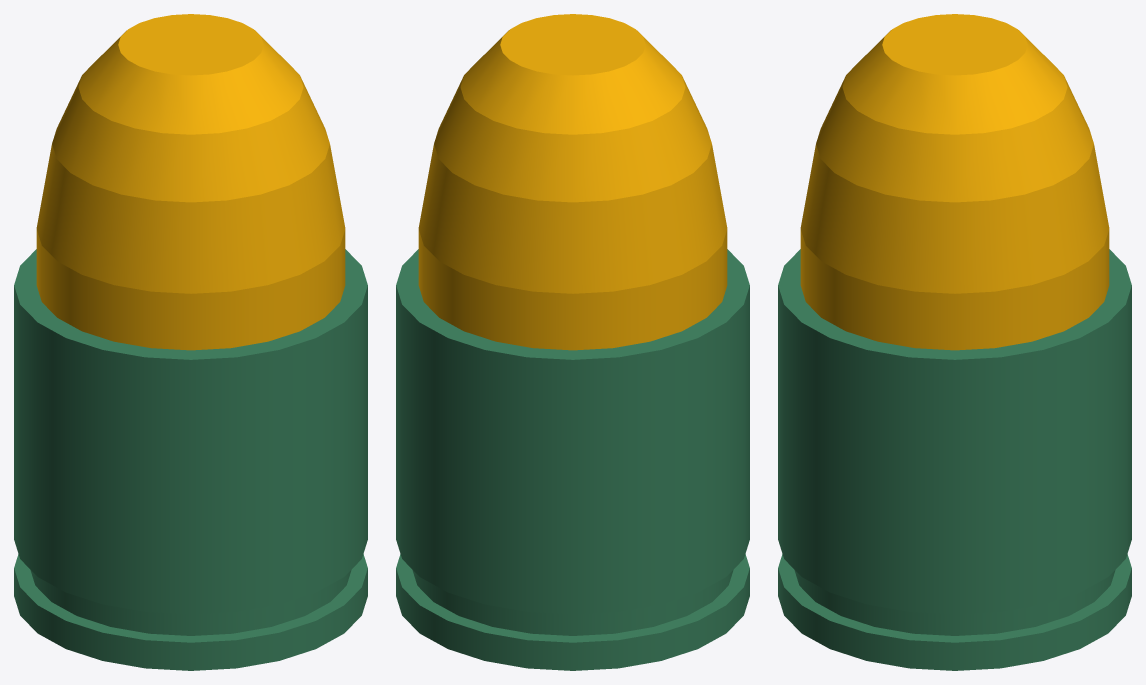
File: ammo_machinegunLauncherGreen.dae
The picture shows the model from 3 angles, left to right: view 1: azimuth 30°, elevation 25°; view 2: azimuth 150°, elevation 25°; view 3: azimuth 270°, elevation 25°; orthographic projection.
Parts seen in each view (by area): view 1: Group (×2); view 2: Group (×2); view 3: Group (×2).
Part boxes in pixels (x1,y1,x2,y2): Group (×2): [14, 14, 367, 670]; Group (×2): [396, 14, 749, 670]; Group (×2): [778, 14, 1131, 670].
Bounding box in the file's own units: 0.0434 × 0.0746 × 0.0434.
